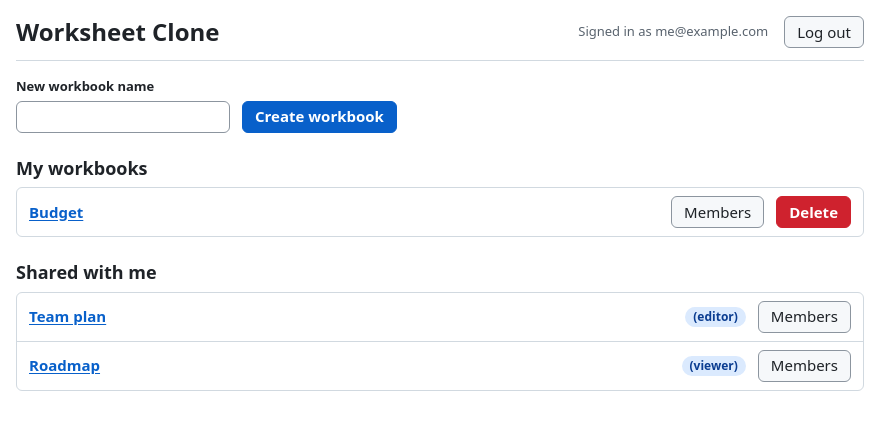
Test: WorkbooksPage › shows the server's message when creation fails
Type "x" into the field labelled "New workbook name" at (123, 116), box [16,100,230,132]
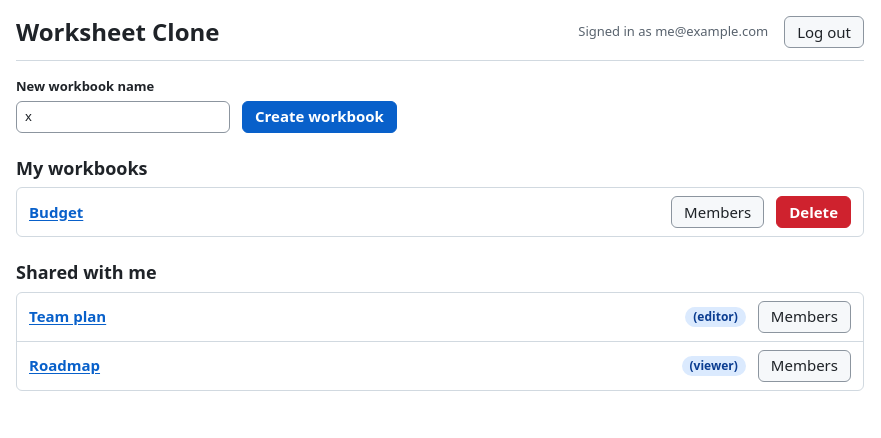
Click the button "Create workbook" at (319, 116), box [242,100,397,132]
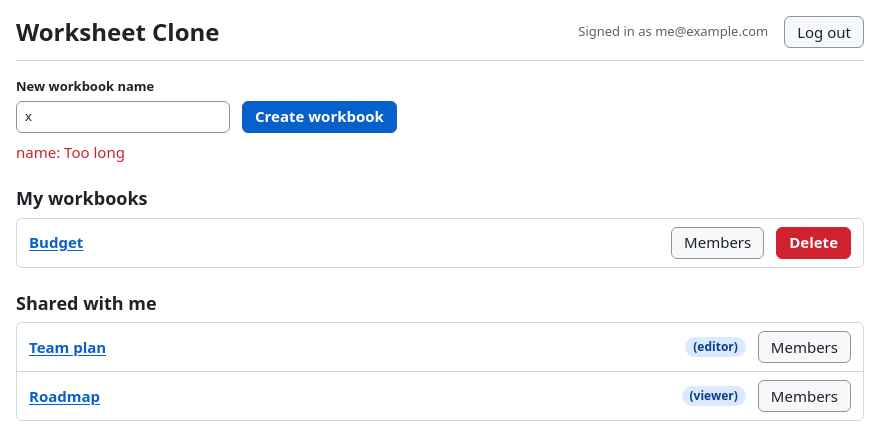
Result: the message reads "name: Too long" at [16,142,125,162]
